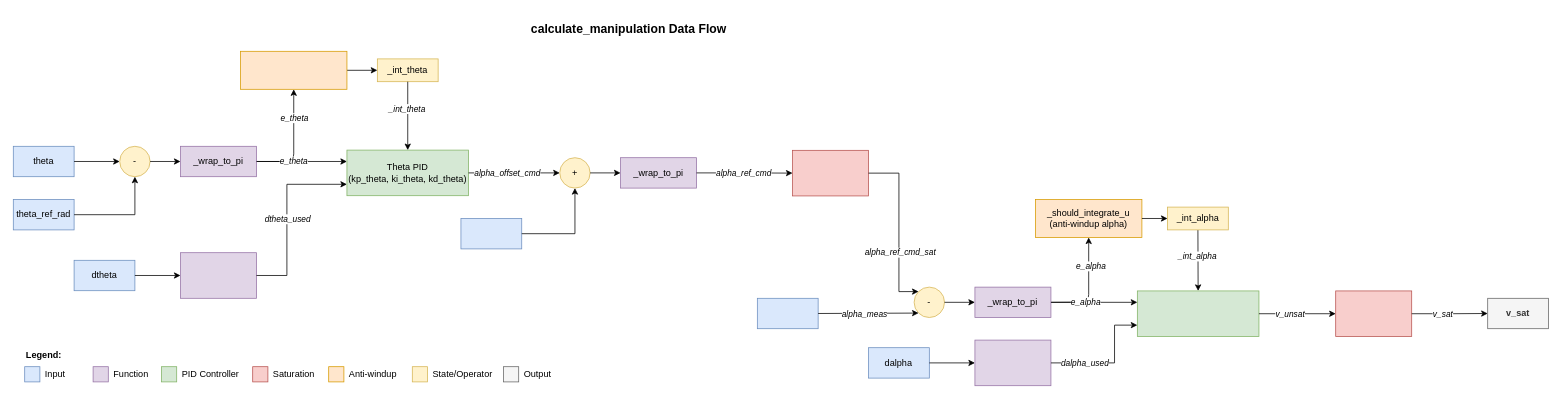
Some shapes in this 1562 by 399 pixel diagram are drawn without their labels. Here are the shapes that lost their labels. From the top down, the box of each, then its label:
(240, 51, 347, 89): _should_integrate_u (anti-windup theta)
(792, 150, 869, 196): Saturation (alpha_ref_limit)
(460, 218, 522, 249): alpha_ref_rad
(180, 252, 256, 298): Low-pass Filter (dtheta)
(757, 298, 818, 329): alpha
(1137, 290, 1259, 337): Alpha PID (kp_alpha, ki_alpha, kd_alpha)
(1335, 290, 1412, 337): Saturation (v_limit)
(974, 339, 1051, 386): Low-pass Filter (dalpha)
